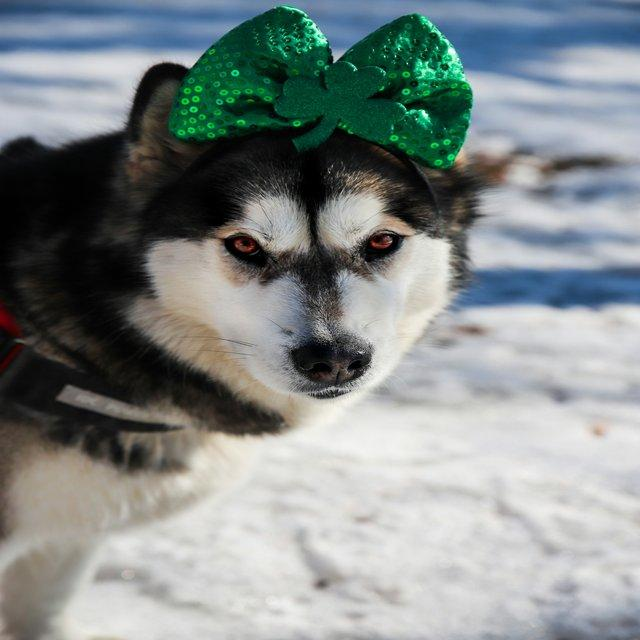husky: (3, 54, 479, 640)
